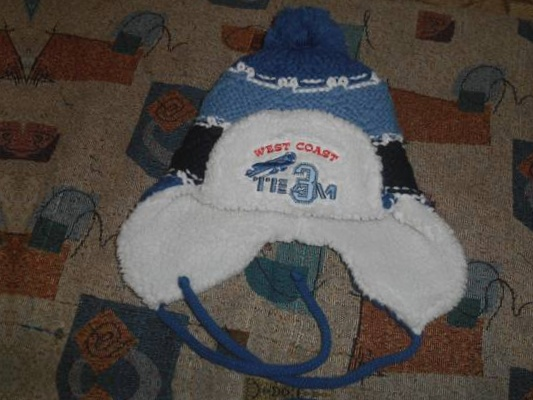Hat: (95, 0, 510, 362)
